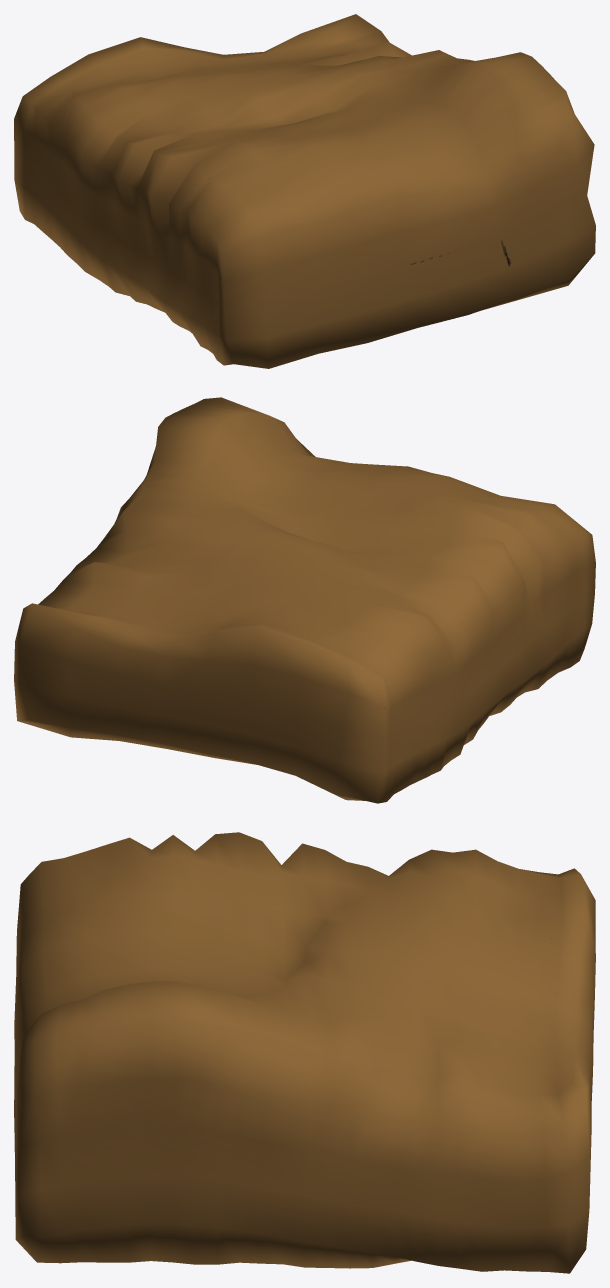
File: PLANK.fbx
The picture shows the model from 3 angles, top to bottom: view 1: azimuth 30°, elevation 25°; view 2: azimuth 150°, elevation 25°; view 3: azimuth 270°, elevation 25°; orthographic projection. The views are drawn at different scales.
Visible parts, largest first — view 1: PLANK_low; view 2: PLANK_low; view 3: PLANK_low.
Part boxes in pixels (box(x1,y1,x2,y2)): PLANK_low: box(14, 14, 595, 368); PLANK_low: box(14, 397, 595, 803); PLANK_low: box(14, 832, 595, 1273).
Bounding box in the file's own units: 0.9918 × 0.5078 × 0.9924.
Materials: 1 (1 with a texture image).
